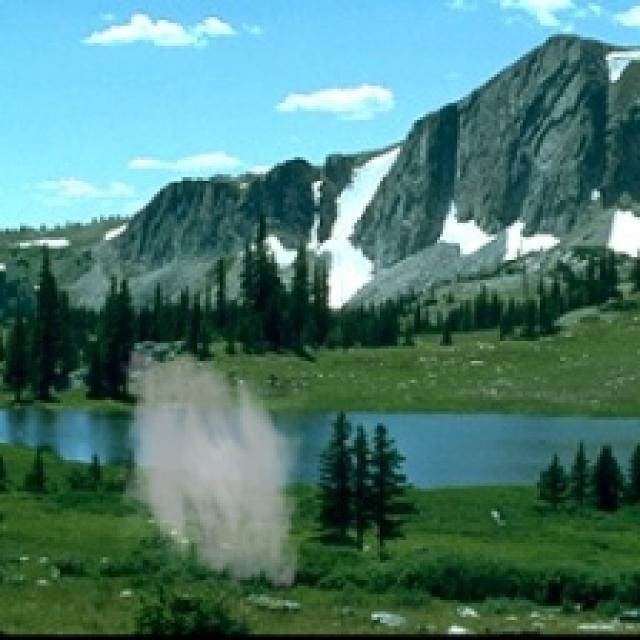Smoke: (106, 337, 314, 600)
